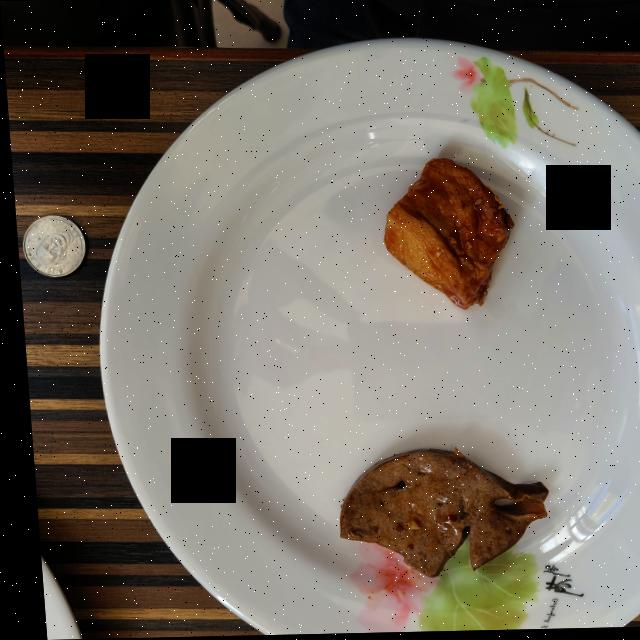coin: (19, 215, 83, 276)
creamy tofu: (380, 160, 509, 309)
pig liver: (331, 450, 541, 578)
